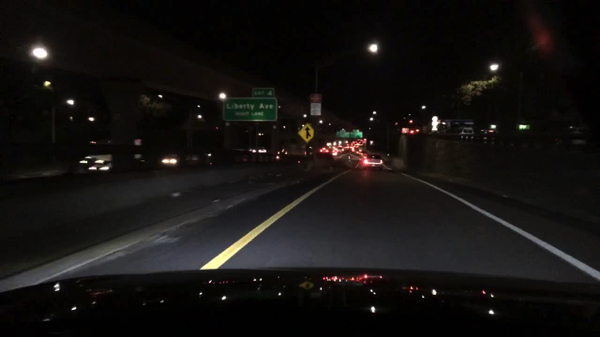car: (562, 126, 589, 147), (88, 159, 111, 173), (363, 154, 383, 170), (457, 126, 478, 140), (480, 130, 501, 143), (162, 155, 176, 166), (329, 149, 341, 157), (354, 147, 365, 155), (319, 146, 329, 154), (337, 146, 346, 153)
traffic sign: (222, 96, 277, 122), (296, 124, 313, 143), (252, 88, 274, 98), (310, 103, 321, 116), (309, 93, 321, 103), (350, 132, 362, 139), (336, 132, 349, 138), (134, 139, 142, 146), (352, 128, 359, 132), (338, 128, 345, 132)
